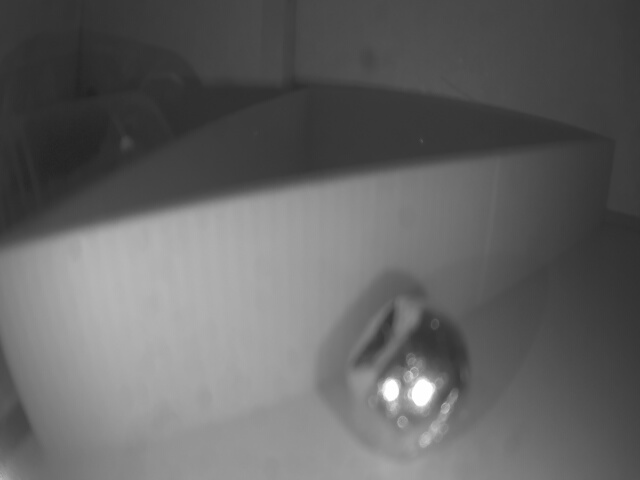Red: (0, 144, 613, 469)
